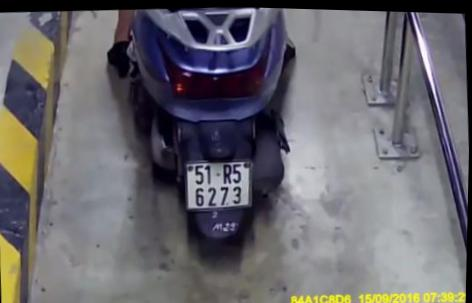LP: (183, 153, 257, 210)
